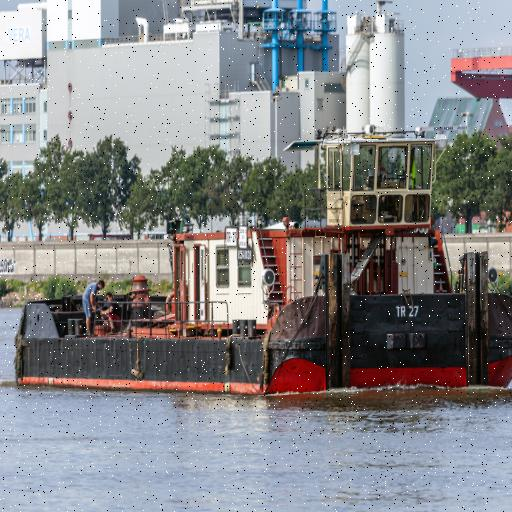tugboat: (9, 121, 512, 412)
